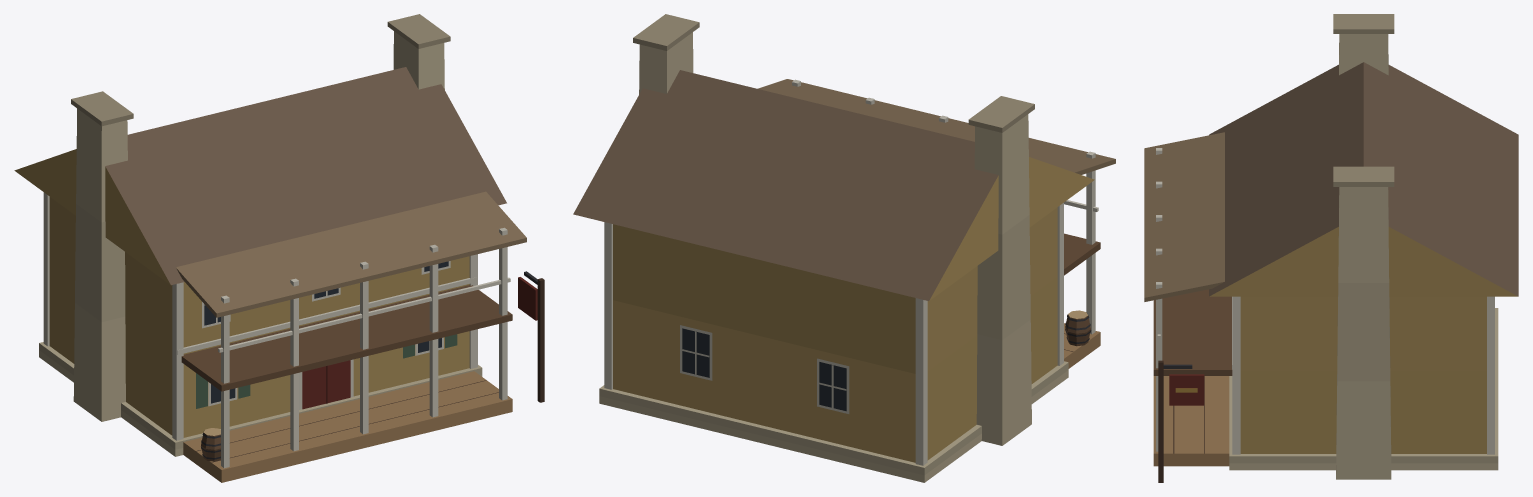
The model's file is tavern.glb.
3 views of the same model, side by side, from view 1: azimuth 30°, elevation 25°; view 2: azimuth 150°, elevation 25°; view 3: azimuth 270°, elevation 25° (orthographic). The views are drawn at different scales.
Visible parts, largest first — view 1: tavern; view 2: tavern; view 3: tavern.
Part boxes in pixels (bbox=[...]): tavern: bbox=[14, 14, 544, 482]; tavern: bbox=[573, 14, 1115, 482]; tavern: bbox=[1144, 14, 1518, 482].
Size of the model in its own units: 10.97 by 8.92 by 10.15.
